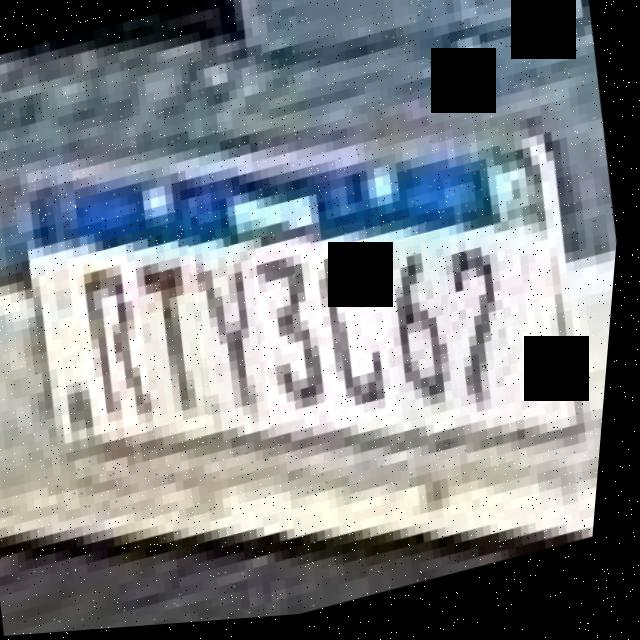3: (245, 243, 349, 436)
6: (377, 236, 479, 431)
7: (435, 238, 535, 426)
C: (304, 236, 417, 436)
R: (68, 252, 171, 439)
T: (127, 245, 227, 435)
Y: (189, 255, 288, 435)
